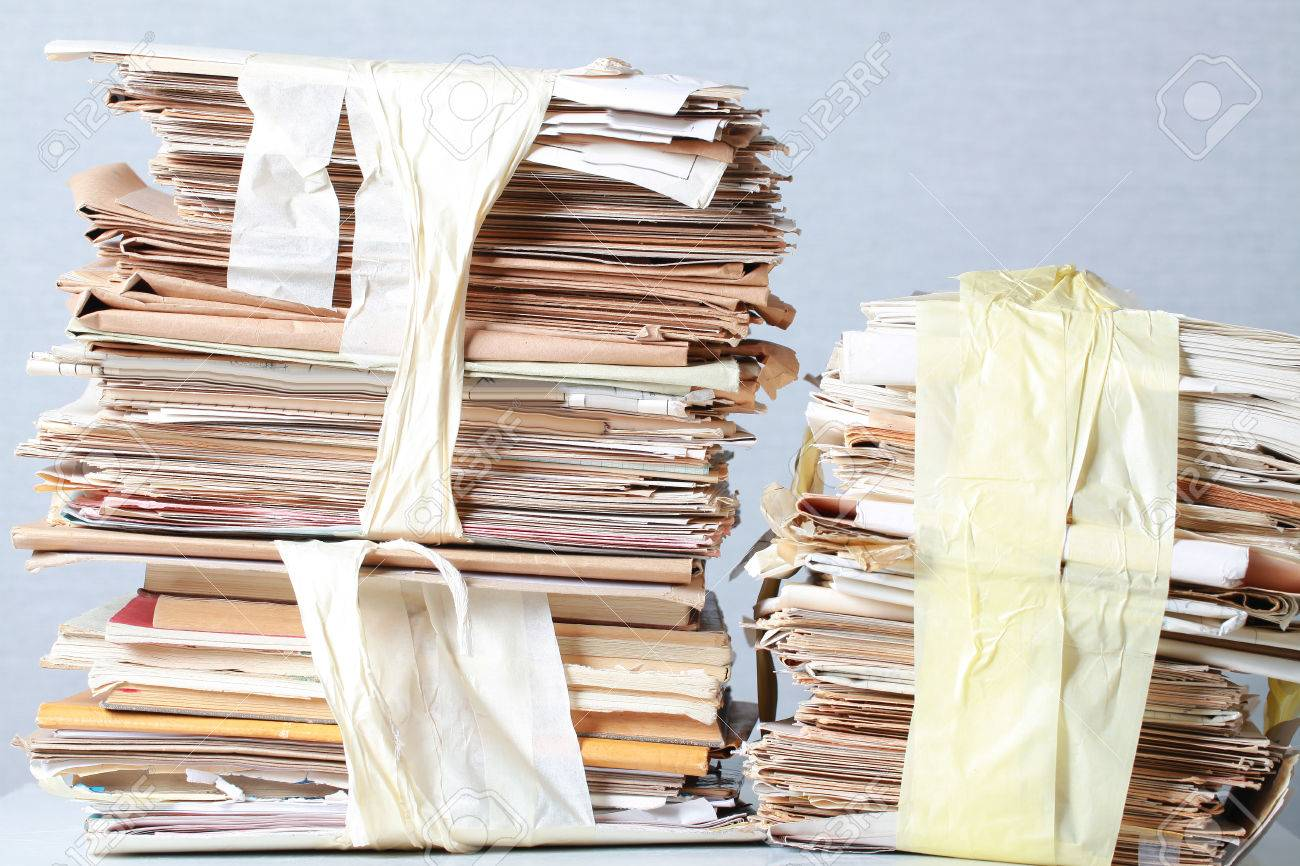paper: (10, 29, 796, 849), (736, 272, 1300, 866)
